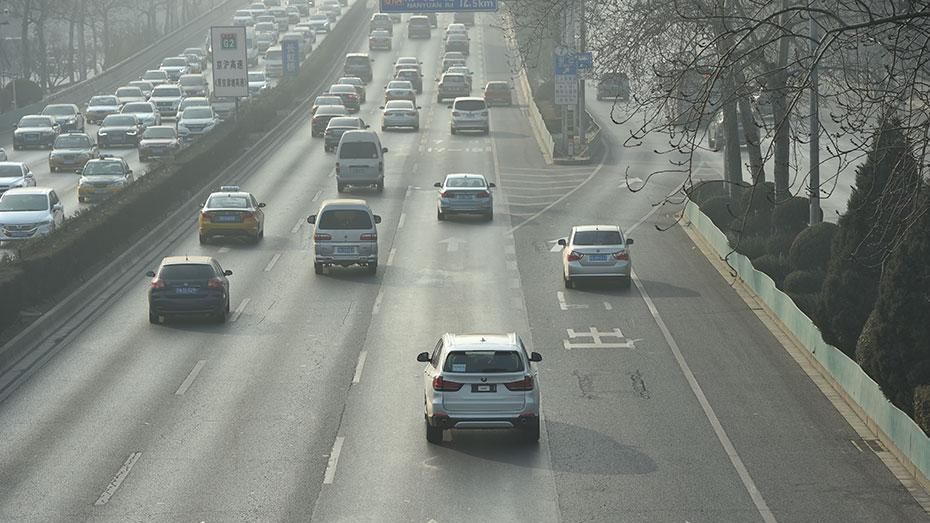bus: (657, 60, 732, 128)
car: (415, 330, 545, 446), (144, 256, 233, 326), (305, 198, 383, 276), (556, 223, 634, 291), (197, 183, 266, 243), (332, 126, 388, 192), (1, 187, 63, 244), (432, 170, 495, 219), (74, 156, 134, 204), (705, 109, 763, 153), (48, 131, 98, 175), (324, 115, 372, 157), (136, 124, 184, 163), (445, 95, 491, 135), (12, 114, 60, 152), (95, 113, 143, 150), (175, 105, 219, 143), (40, 103, 86, 136), (377, 98, 421, 132), (309, 104, 351, 139), (117, 102, 161, 134), (1, 160, 35, 200), (227, 29, 259, 68), (85, 95, 124, 126), (594, 69, 631, 101), (147, 84, 184, 116), (175, 96, 210, 129), (433, 72, 471, 102), (342, 51, 376, 83), (326, 82, 359, 113), (310, 95, 346, 122), (479, 80, 516, 106), (334, 73, 365, 104), (235, 69, 269, 97), (382, 79, 416, 106), (445, 61, 473, 93), (261, 46, 289, 78), (176, 73, 210, 99), (157, 56, 192, 81), (278, 32, 308, 61), (393, 67, 424, 95), (112, 86, 147, 108), (367, 26, 394, 53), (403, 14, 430, 40), (392, 56, 423, 78), (140, 68, 171, 89), (368, 11, 394, 36), (438, 50, 466, 73), (126, 79, 154, 101), (175, 52, 201, 75), (441, 33, 470, 53), (254, 14, 278, 37), (266, 7, 290, 30), (304, 13, 329, 35), (182, 47, 206, 69), (253, 29, 276, 51), (442, 22, 470, 40), (231, 9, 254, 27)
